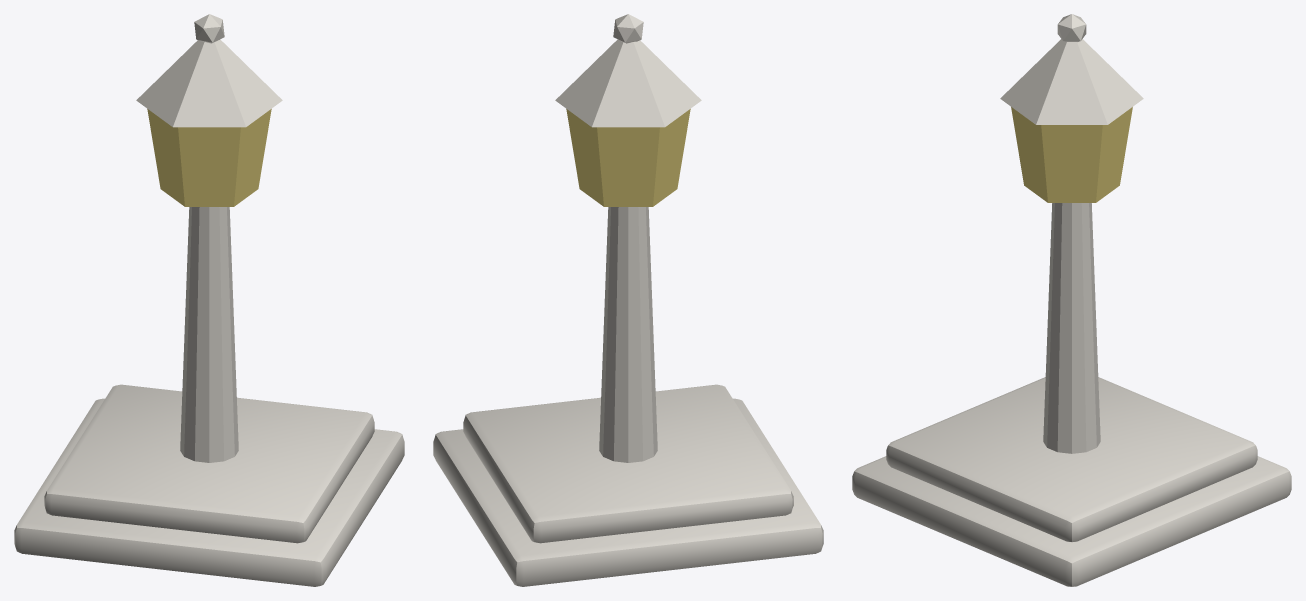
The model's file is Cartagena_Alfil.fbx.
3 renders of one model, left to right at view 1: azimuth 30°, elevation 25°; view 2: azimuth 150°, elevation 25°; view 3: azimuth 270°, elevation 25°, orthographic. The views are drawn at different scales.
Visible parts, largest first — view 1: Cartagena_Alfil; view 2: Cartagena_Alfil; view 3: Cartagena_Alfil.
Part boxes in pixels (<box>): Cartagena_Alfil: <box>14,14,404,586</box>; Cartagena_Alfil: <box>433,14,823,586</box>; Cartagena_Alfil: <box>852,14,1291,586</box>.
Size of the model in its own units: 0.9168 by 1.12 by 0.9168.
